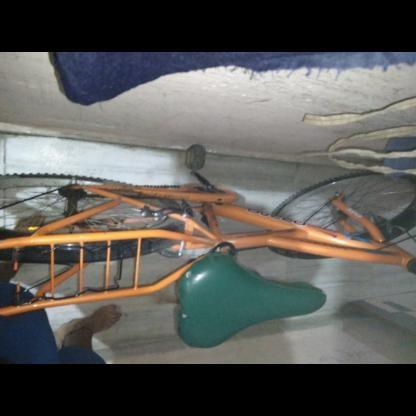Bicycle: (0, 131, 414, 368)
